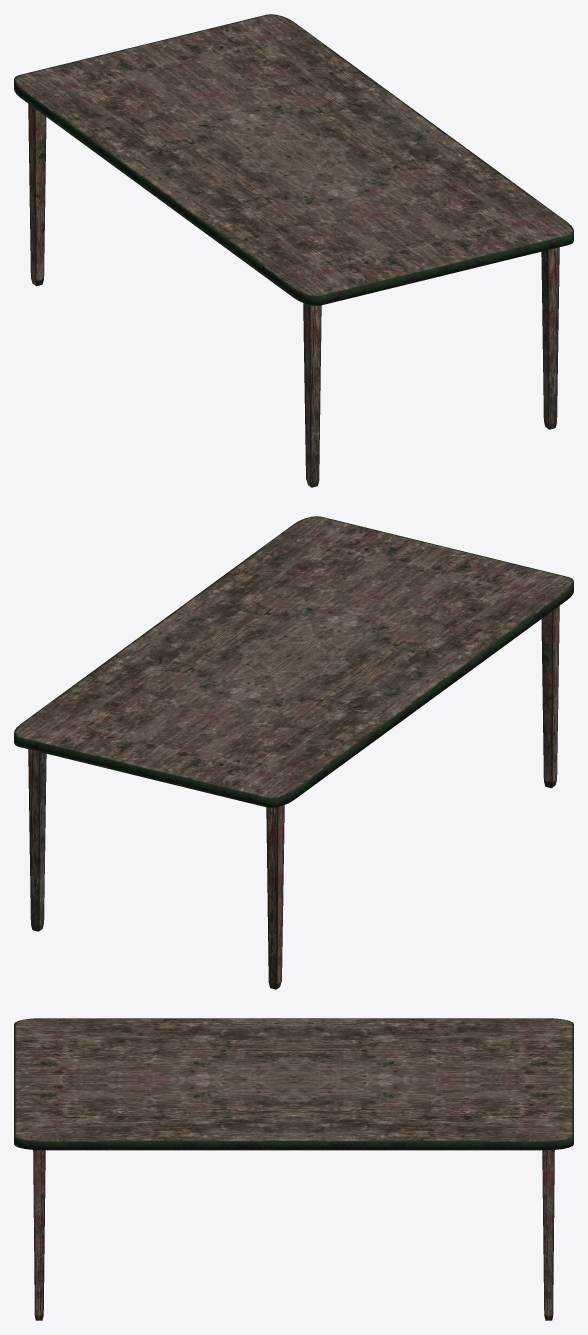
File: table.dae
3 renders of one model, top to bottom at view 1: azimuth 30°, elevation 25°; view 2: azimuth 150°, elevation 25°; view 3: azimuth 270°, elevation 25°, orthographic. The views are drawn at different scales.
Visible parts, largest first — view 1: Table.001; view 2: Table.001; view 3: Table.001.
Part boxes in pixels (left/top/right/bottom): Table.001: left=14, top=14, right=573, bottom=487; Table.001: left=14, top=516, right=573, bottom=989; Table.001: left=14, top=1018, right=573, bottom=1320.
Bounding box in the file's own units: 4.6 × 8.8 × 3.23.
2 materials, 2 textured.
